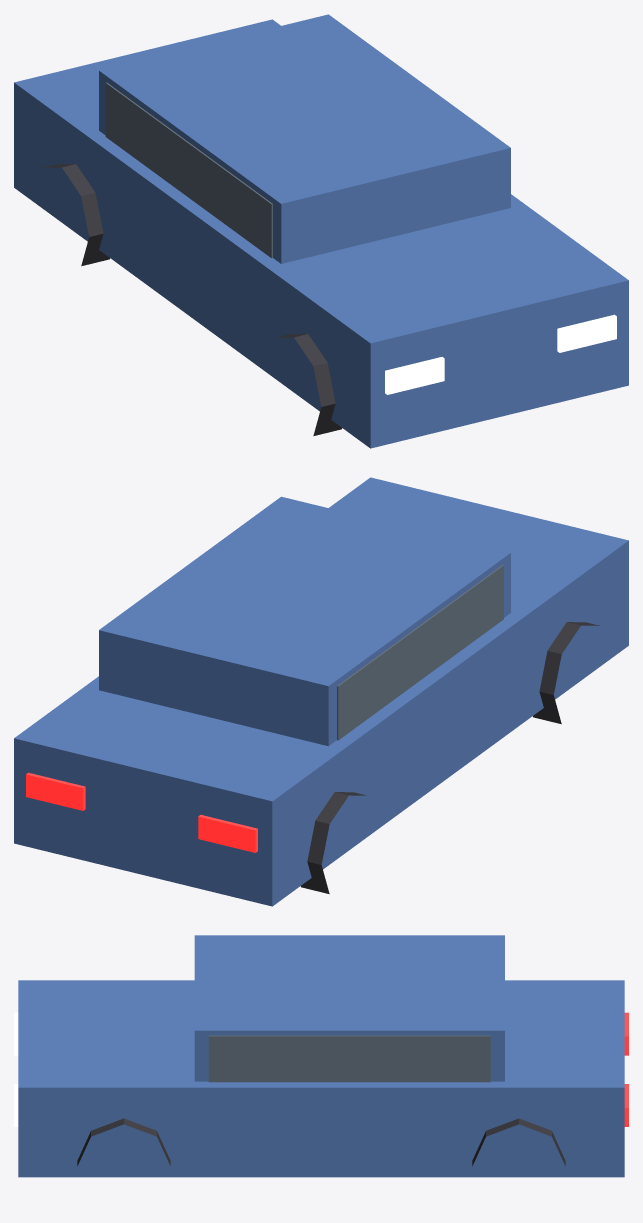
The model's file is car_parked_blue.glb.
3 renders of one model, top to bottom at view 1: azimuth 30°, elevation 25°; view 2: azimuth 150°, elevation 25°; view 3: azimuth 270°, elevation 25°, orthographic. The views are drawn at different scales.
Parts seen in each view (by area): view 1: car_parked_blue; view 2: car_parked_blue; view 3: car_parked_blue.
Boxes of the visible parts, x1,y1,x2,y2 form: car_parked_blue: (14,14,628,448); car_parked_blue: (14,477,628,906); car_parked_blue: (14,935,628,1177).
Bounding box in the file's own units: 2 × 1.3 × 4.36.
